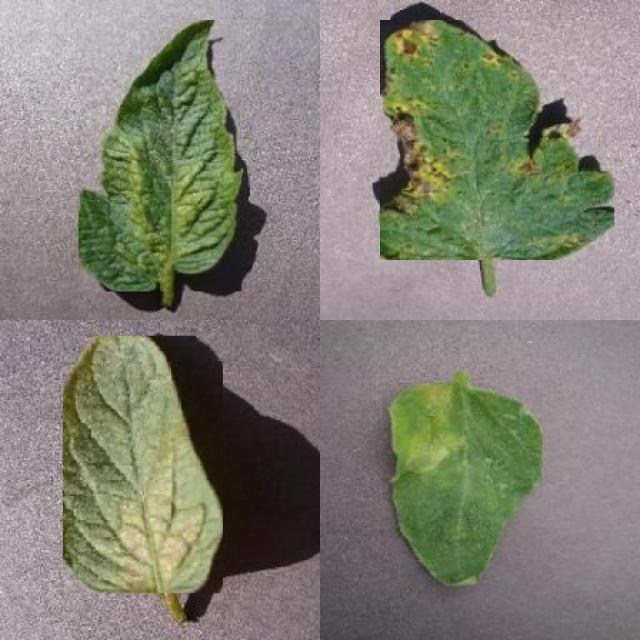Late Blight: (384, 384, 544, 589)
Septoria: (380, 20, 614, 260)
Spider Mites: (78, 21, 242, 292), (63, 336, 223, 594)
